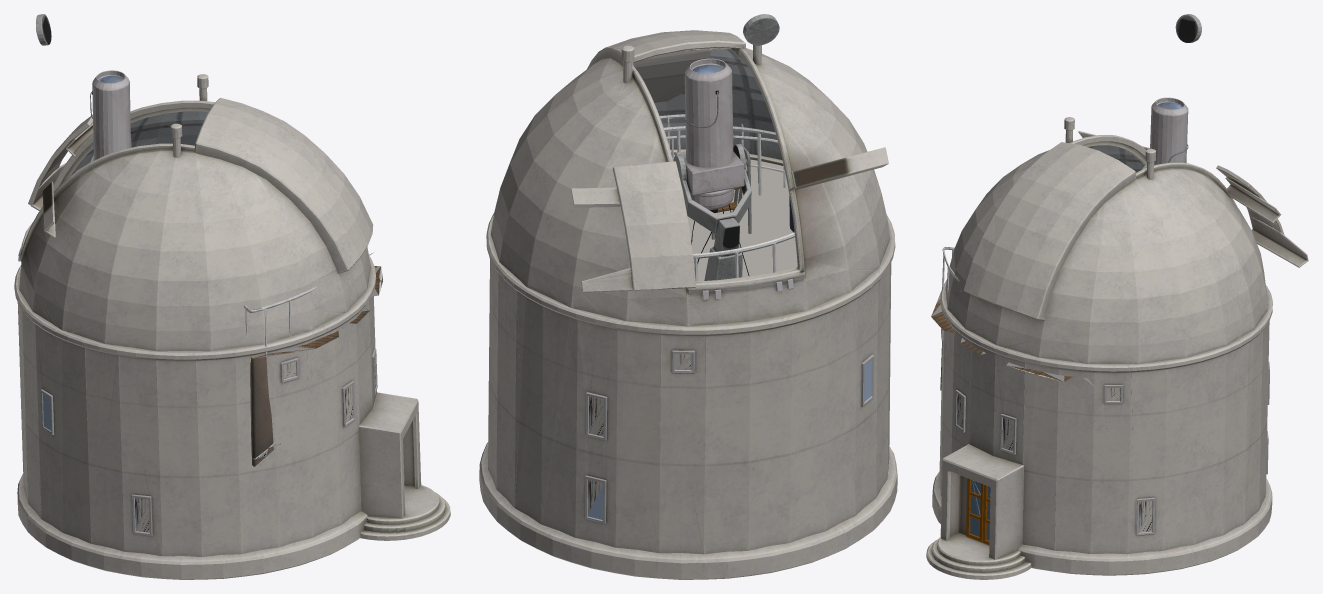
The model's file is NightObservatory.obj.
3 renders of one model, left to right at view 1: azimuth 30°, elevation 25°; view 2: azimuth 150°, elevation 25°; view 3: azimuth 270°, elevation 25°, orthographic. The views are drawn at different scales.
Visible parts, largest first — view 1: Base, Tube; view 2: Base, Tube, Finder; view 3: Base, Tube, Finder.
Part boxes in pixels (x1=…): Base: x1=14, y1=74, x2=450, y2=579; Tube: x1=90, y1=70, x2=382, y2=466; Base: x1=479, y1=30, x2=897, y2=579; Tube: x1=660, y1=58, x2=794, y2=281; Finder: x1=743, y1=14, x2=779, y2=45; Base: x1=926, y1=117, x2=1308, y2=579; Tube: x1=931, y1=97, x2=1188, y2=390; Finder: x1=1175, y1=14, x2=1201, y2=42.
Size of the model in its own units: 96.47 by 131 by 101.
